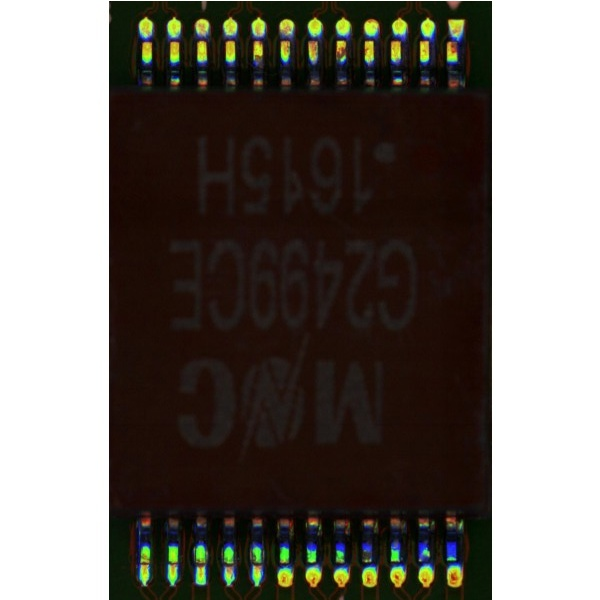Bad_podu: (169, 553, 177, 575), (197, 554, 204, 577), (253, 555, 261, 573), (142, 553, 148, 573), (226, 554, 232, 573)
